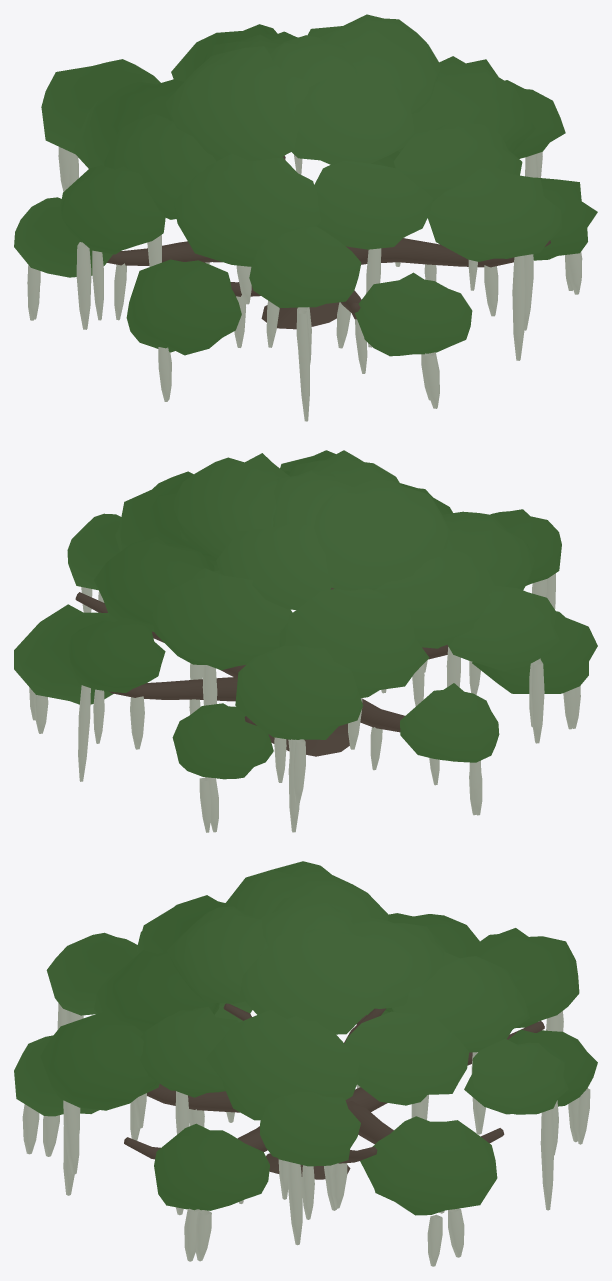
The model's file is Blender_LiveOakMoss_1.glb.
3 renders of one model, top to bottom at view 1: azimuth 30°, elevation 25°; view 2: azimuth 150°, elevation 25°; view 3: azimuth 270°, elevation 25°, orthographic. The views are drawn at different scales.
Visible parts, largest first — view 1: Blender_LiveOakMoss_1; view 2: Blender_LiveOakMoss_1; view 3: Blender_LiveOakMoss_1.
Part boxes in pixels (bbox=[...]): Blender_LiveOakMoss_1: bbox=[14, 14, 597, 421]; Blender_LiveOakMoss_1: bbox=[14, 450, 597, 832]; Blender_LiveOakMoss_1: bbox=[14, 861, 597, 1266].
Size of the model in its own units: 31.49 by 16.57 by 32.53.
